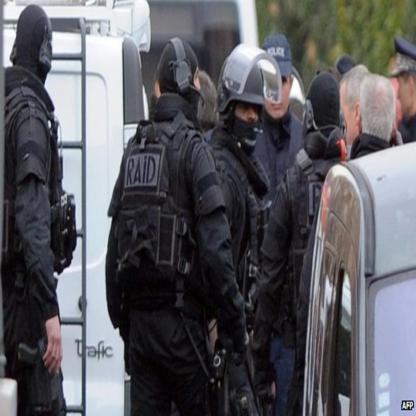face: (265, 53, 290, 119), (237, 79, 260, 150)
